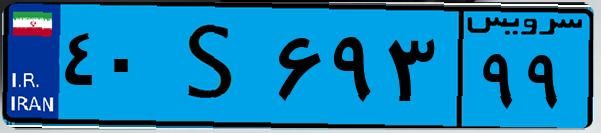0: (110, 28, 158, 98)
3: (385, 28, 445, 110)
4: (57, 26, 110, 100)
6: (270, 28, 330, 110)
9: (330, 28, 385, 110), (475, 38, 525, 113), (525, 38, 570, 115)
S: (158, 12, 270, 120)
